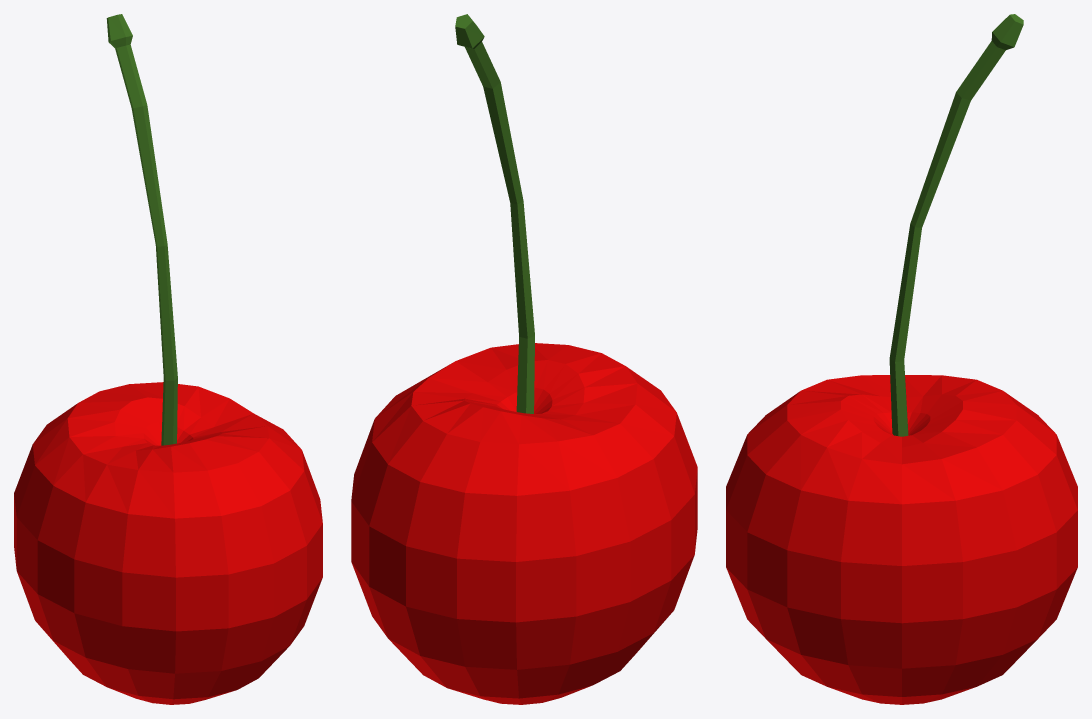
The model's file is 233_Cherry.obj.
3 views of the same model, side by side, from view 1: azimuth 30°, elevation 25°; view 2: azimuth 150°, elevation 25°; view 3: azimuth 270°, elevation 25° (orthographic). The views are drawn at different scales.
Parts seen in each view (by area): view 1: Cherry; view 2: Cherry; view 3: Cherry.
Part boxes in pixels (<box>): Cherry: <box>14,14,322,704</box>; Cherry: <box>351,14,697,704</box>; Cherry: <box>726,14,1077,704</box>.
Size of the model in its own units: 49.62 by 116 by 54.48.
1 material, 1 textured.
